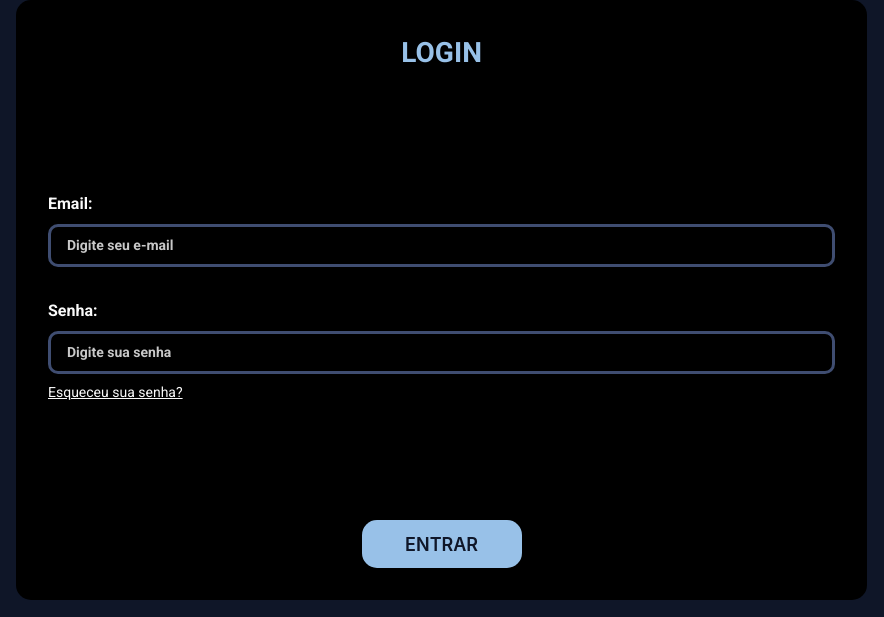
Test case: Login Component › should display error message when login fails
The width and height of the screenshot is (884, 617).
In the field with placeholder "Digite seu e-mail": {"x": 442, "y": 245} [48, 224, 835, 266], type "test@example.com"
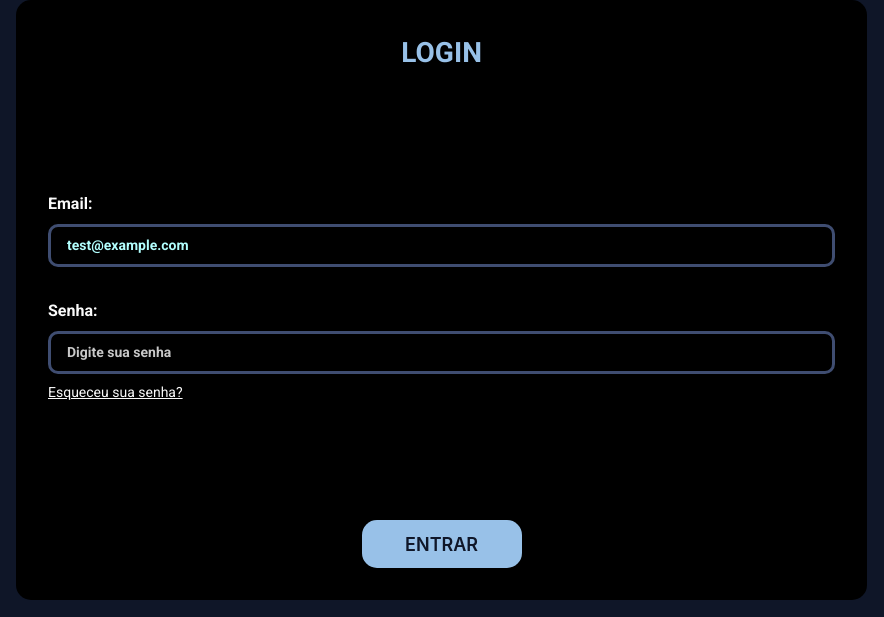
In the password field with placeholder "Digite sua senha": {"x": 442, "y": 352} [48, 330, 835, 374], type "wrongPassword"
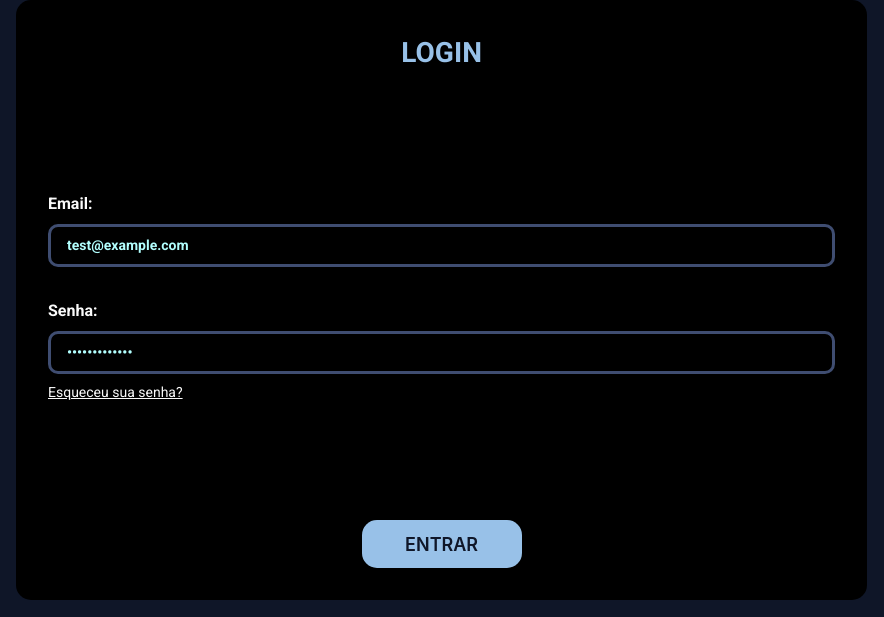
Click the button "ENTRAR": {"x": 442, "y": 544} [362, 520, 522, 568]
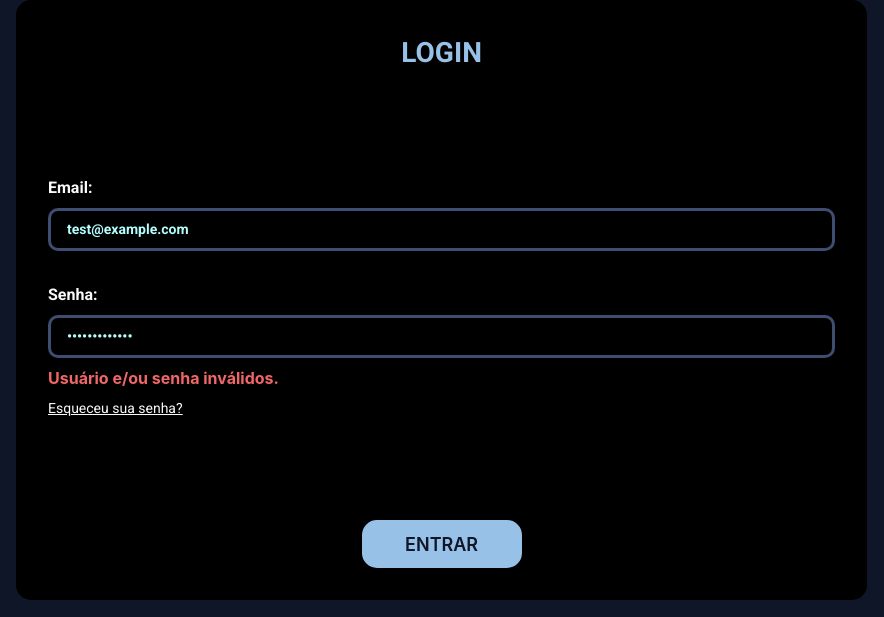
Now the text "Usuário e/ou senha inválidos." is shown, box [48, 368, 279, 388]
